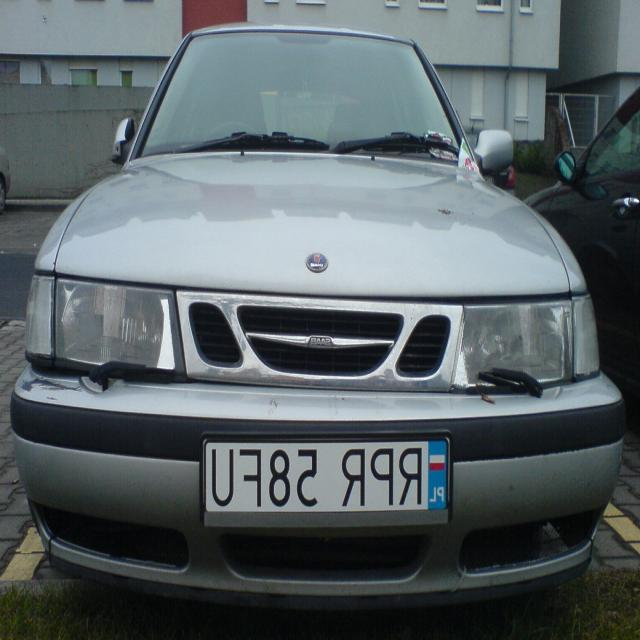pl_license_plate: (204, 438, 451, 514)
